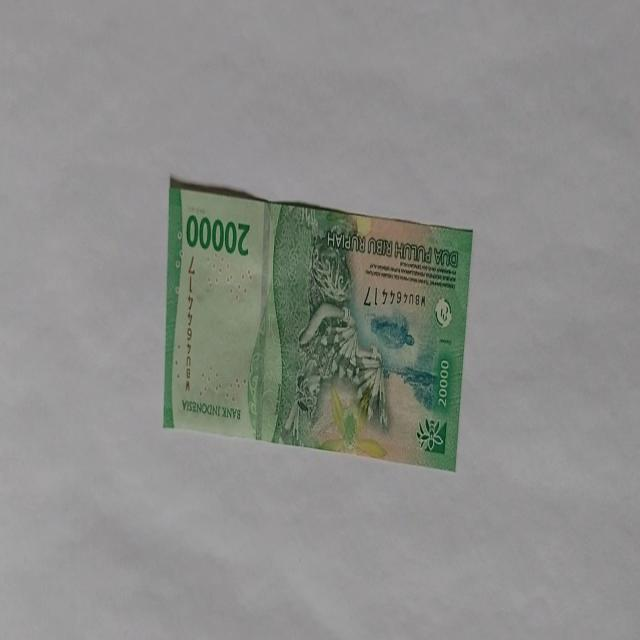dua puluh ribu rupiah: (162, 177, 474, 473)
